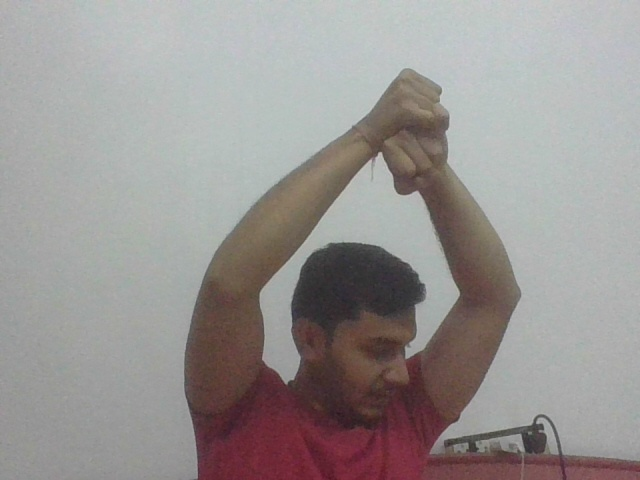S: (374, 63, 454, 202)
